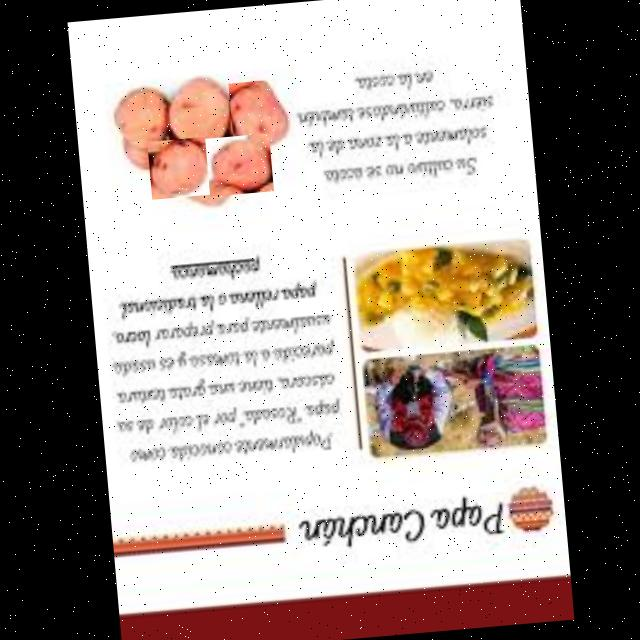Defected potato: (162, 72, 230, 148), (227, 77, 295, 150), (204, 132, 272, 195), (111, 84, 172, 150), (146, 136, 208, 198)
